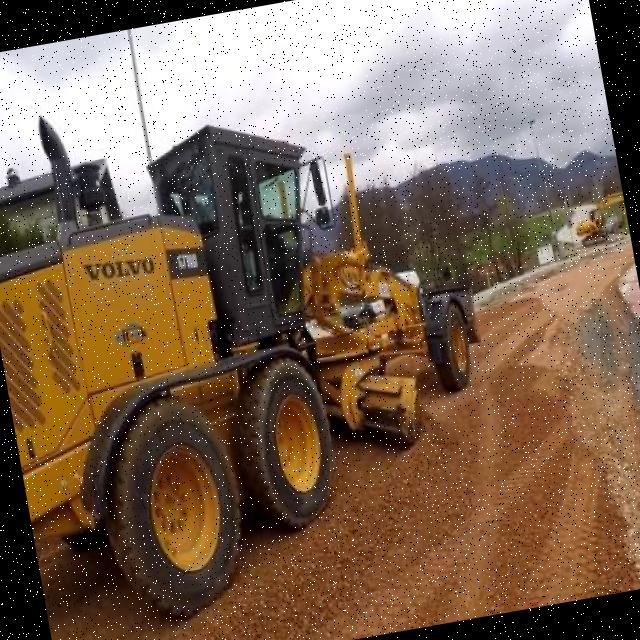Excavator: (566, 184, 630, 248)
